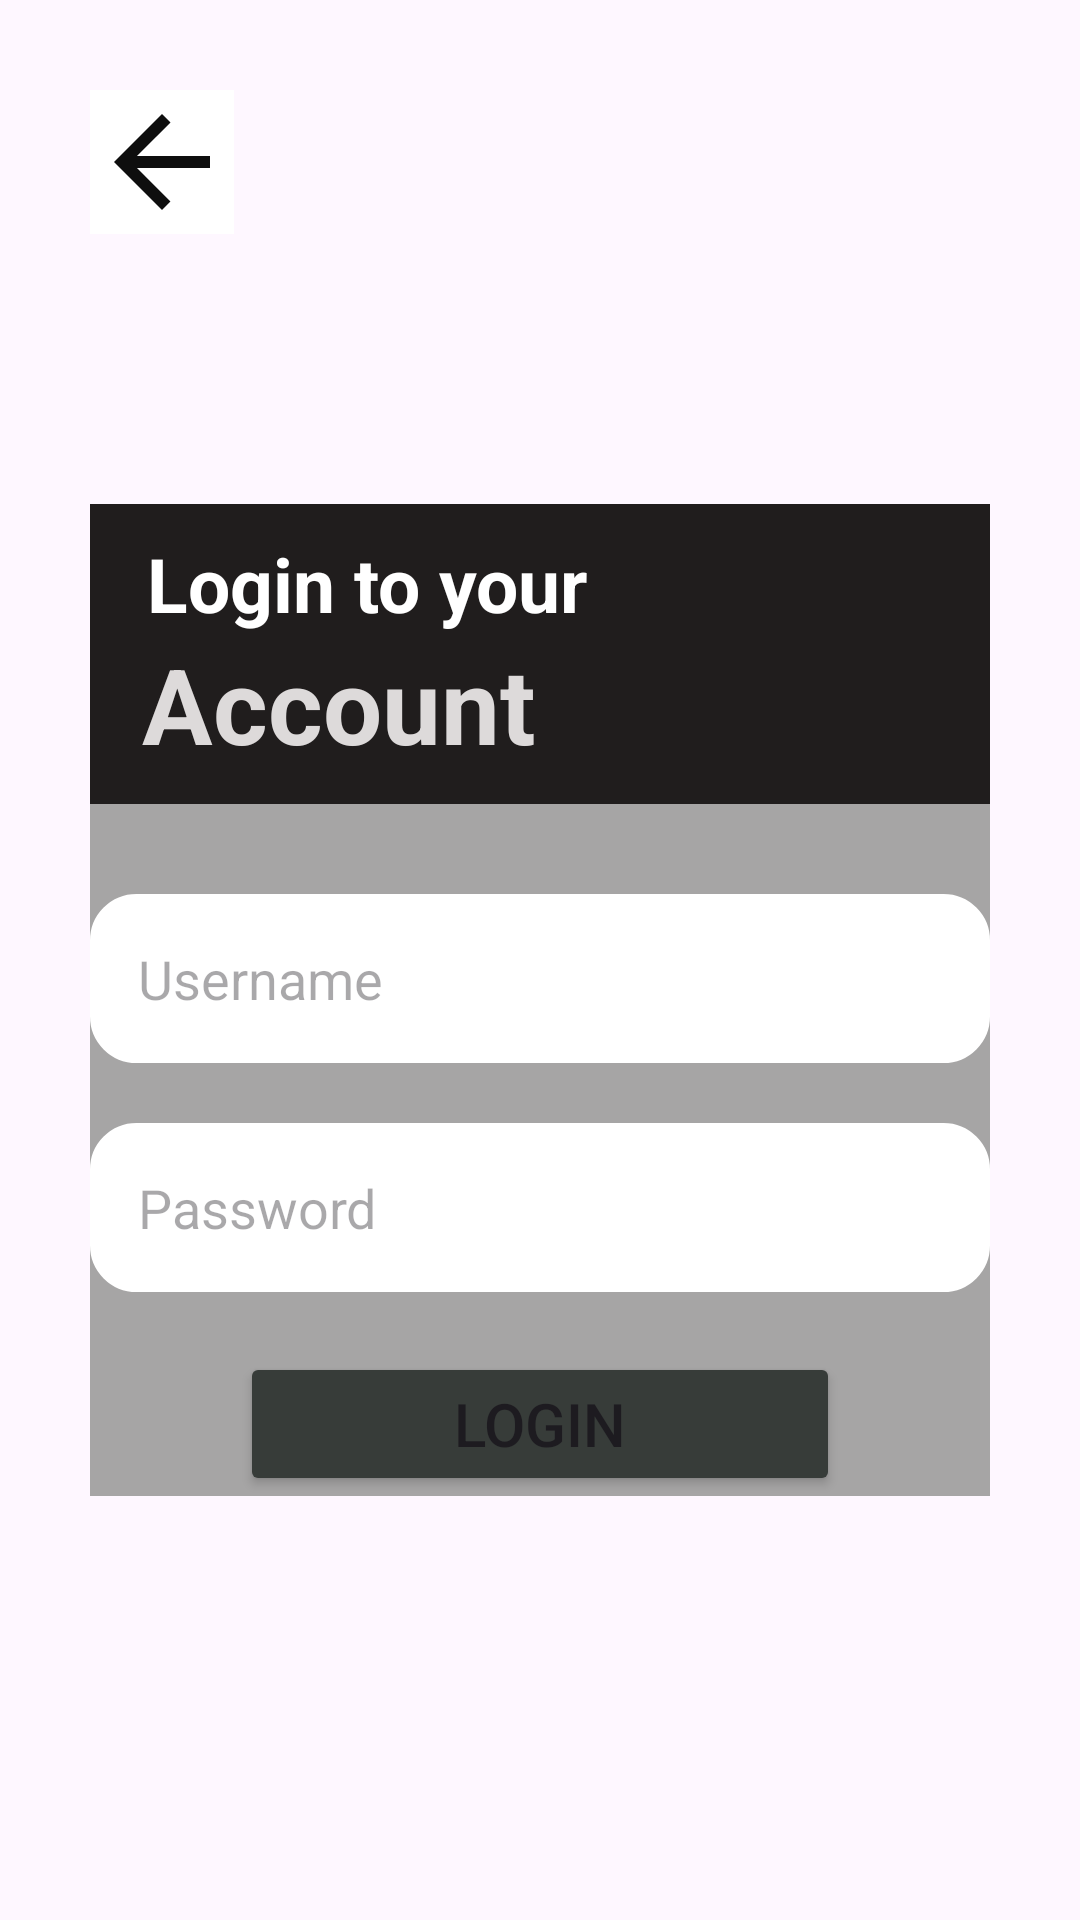

Icons on this 1080 x 1920 Android screen, each with its box as {"left": x1, "top": y1, "right": x2, "bottom": y2}:
arrow back: {"left": 114, "top": 114, "right": 210, "bottom": 210}
